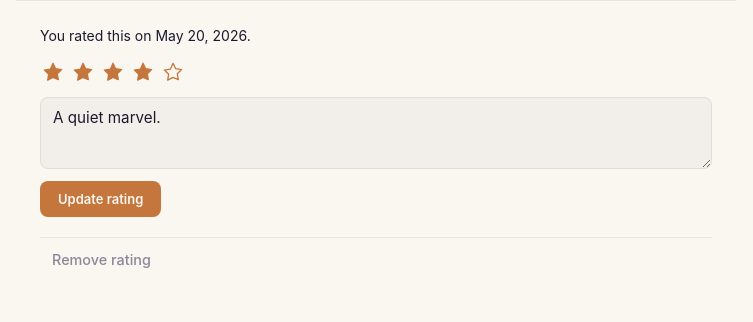
Test: RatingControl — the Remove rating action (Story 79) › confirm can be dismissed: 'Keep it' returns to the editor with nothing sent
The width and height of the screenshot is (753, 322).
Click the button "Remove rating" at (101, 259), box [40, 246, 163, 273]
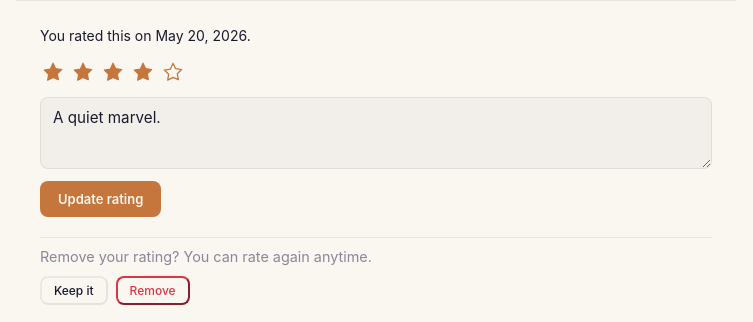
Click the button "Keep it" at (74, 290), box [40, 276, 108, 305]
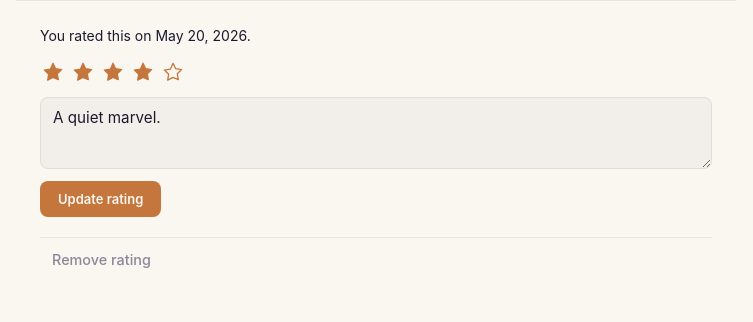
Expected: the text "Remove your rating?" is gone
